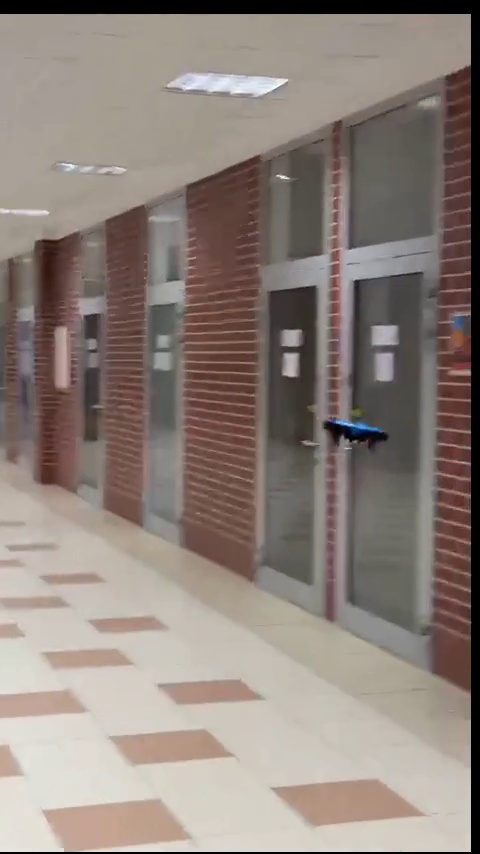drone: (319, 418, 394, 457)
